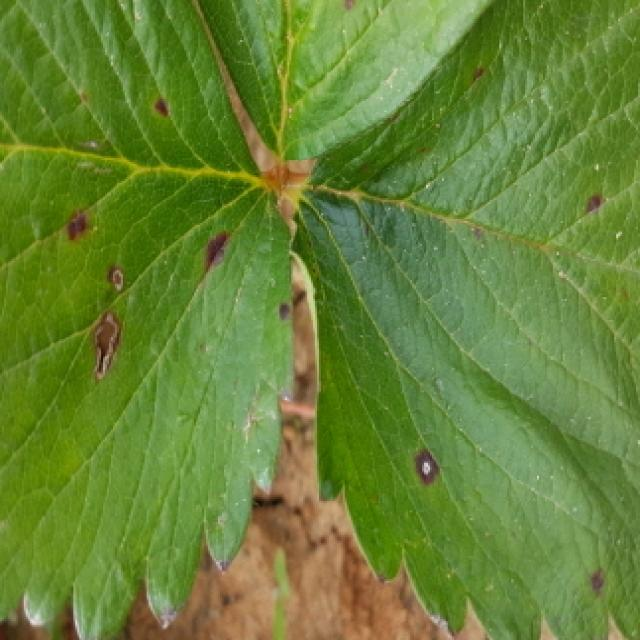Leaf Spot: (289, 0, 640, 640), (198, 0, 495, 160)
